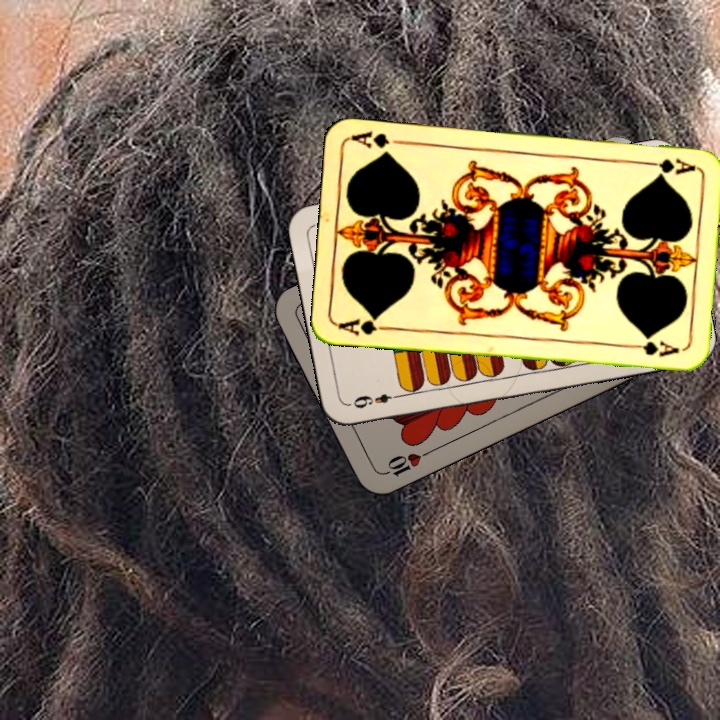E9: (346, 390, 405, 411)
GA: (335, 312, 395, 338), (639, 154, 698, 176)
H10: (376, 446, 433, 480)
